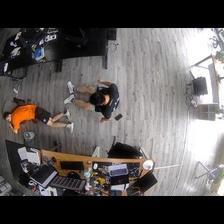fall: (64, 76, 120, 120), (4, 103, 74, 136)
